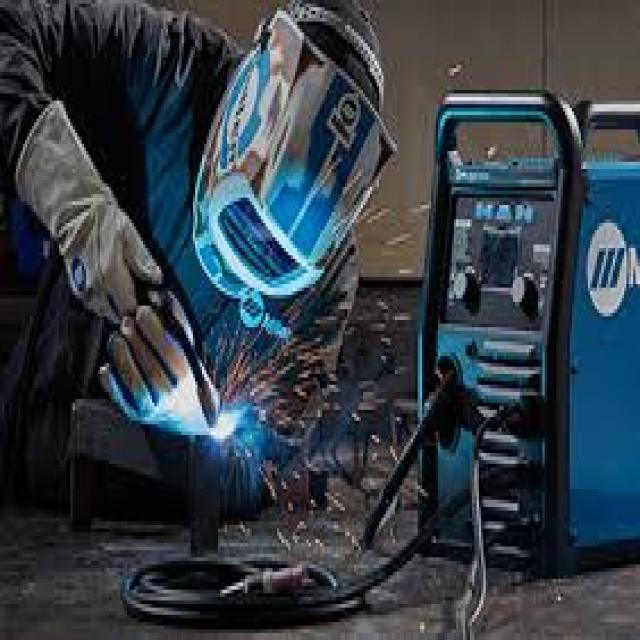welding: (212, 414, 239, 446)
